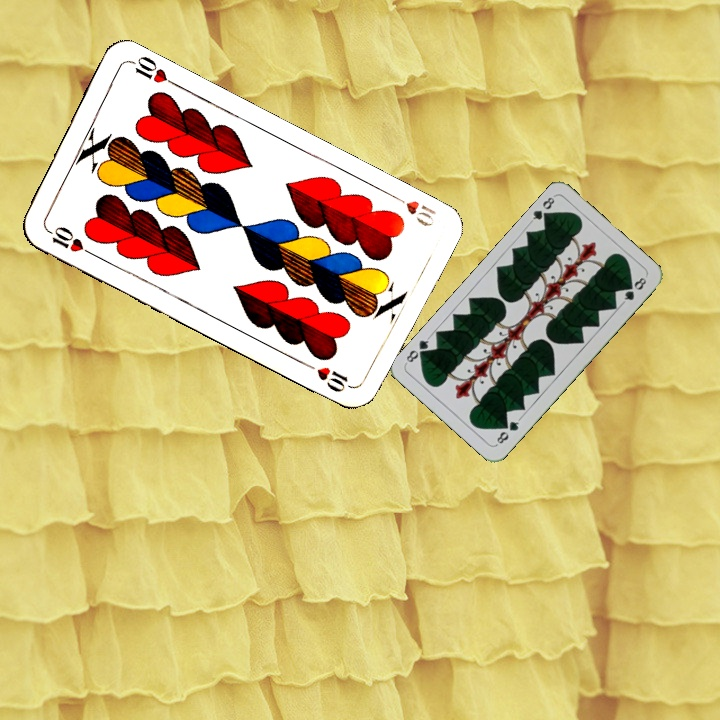G8: (492, 414, 523, 448), (526, 192, 557, 225)
H10: (386, 189, 439, 229), (41, 222, 96, 258)
